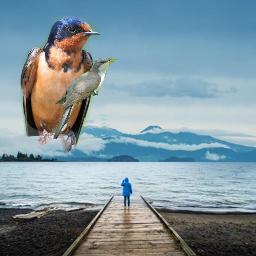Cuckoo: (53, 58, 116, 139)
Swallow: (20, 16, 100, 154)
